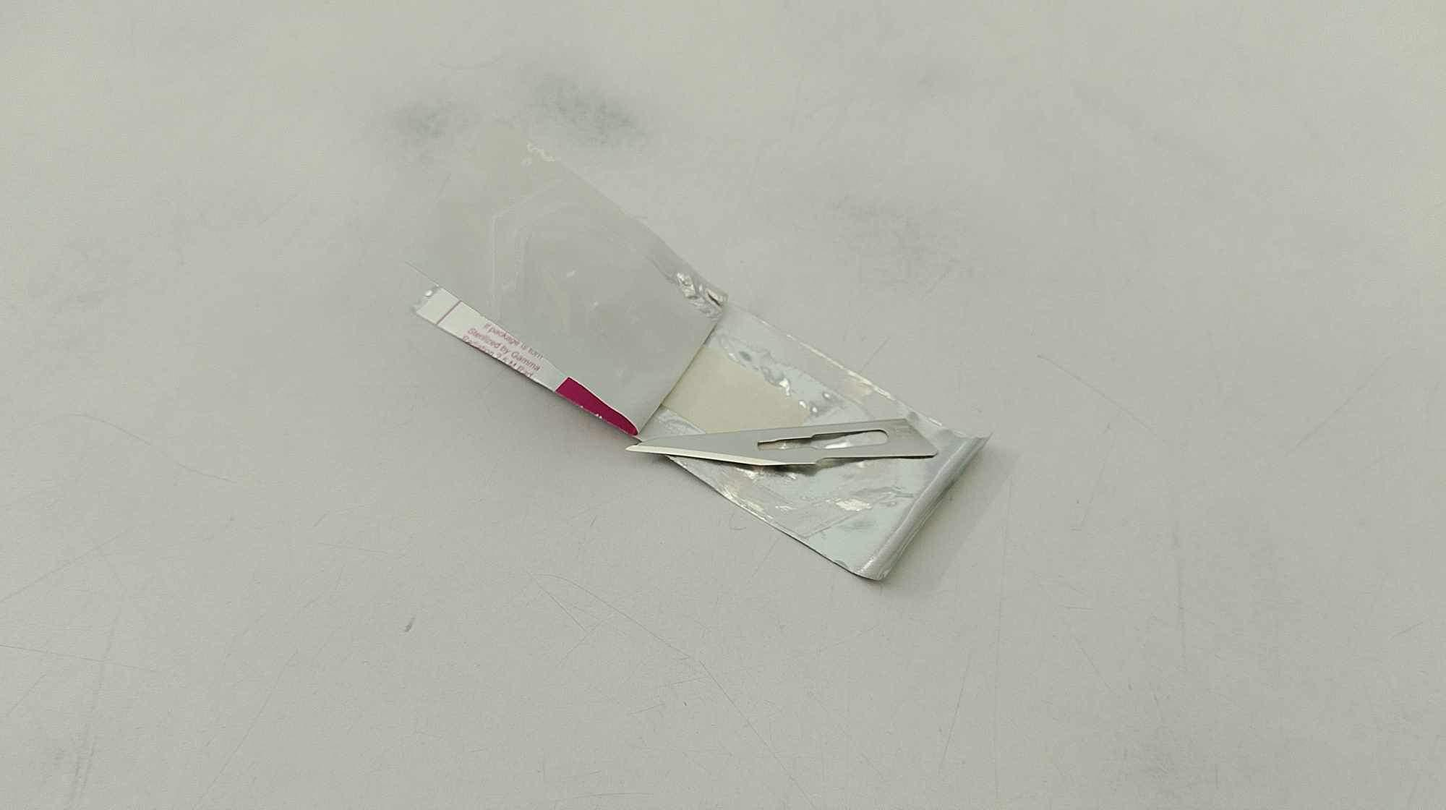General: (398, 111, 995, 587), (626, 299, 993, 585)
Sharps: (399, 257, 643, 443)
